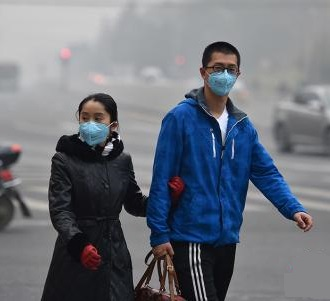person: (145, 38, 316, 301), (39, 90, 156, 301)
